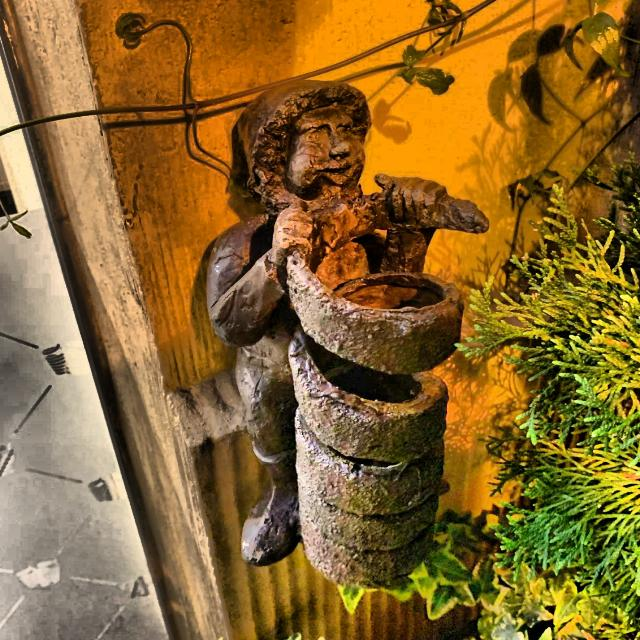Czimnejek: (194, 87, 499, 591)
